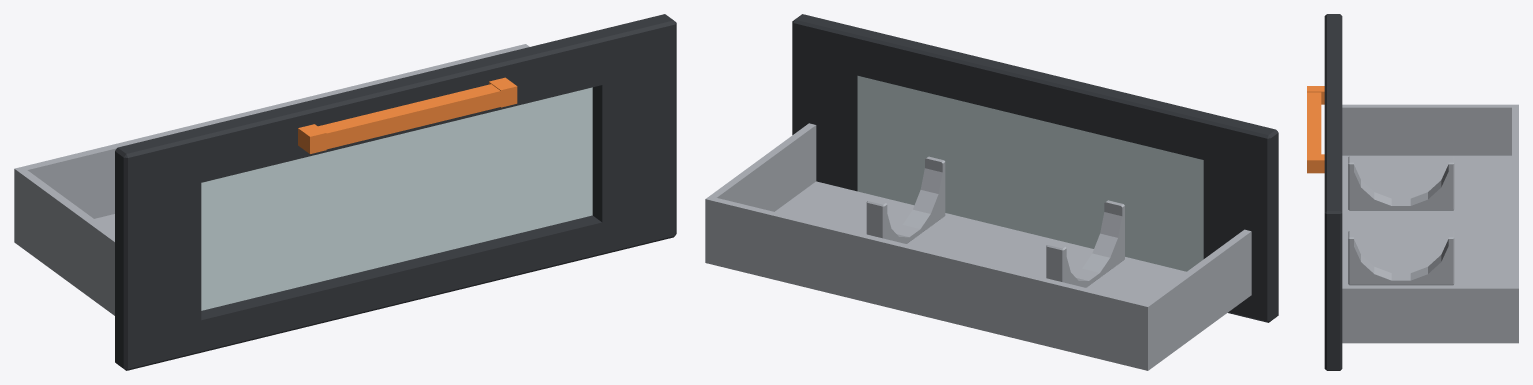
The model's file is loader_drawer_drawer.glb.
The picture shows the model from 3 angles, left to right: view 1: azimuth 30°, elevation 25°; view 2: azimuth 150°, elevation 25°; view 3: azimuth 270°, elevation 25°; orthographic projection. The views are drawn at different scales.
Parts seen in each view (by area): view 1: LoaderDrawerFront; view 2: LoaderDrawerFront; view 3: LoaderDrawerFront.
Boxes of the visible parts, box(x1,y1,x2,y2) form: LoaderDrawerFront: box(14, 14, 676, 370); LoaderDrawerFront: box(705, 14, 1278, 370); LoaderDrawerFront: box(1307, 14, 1518, 370).
Size of the model in its own units: 0.8 by 0.3 by 0.36.
